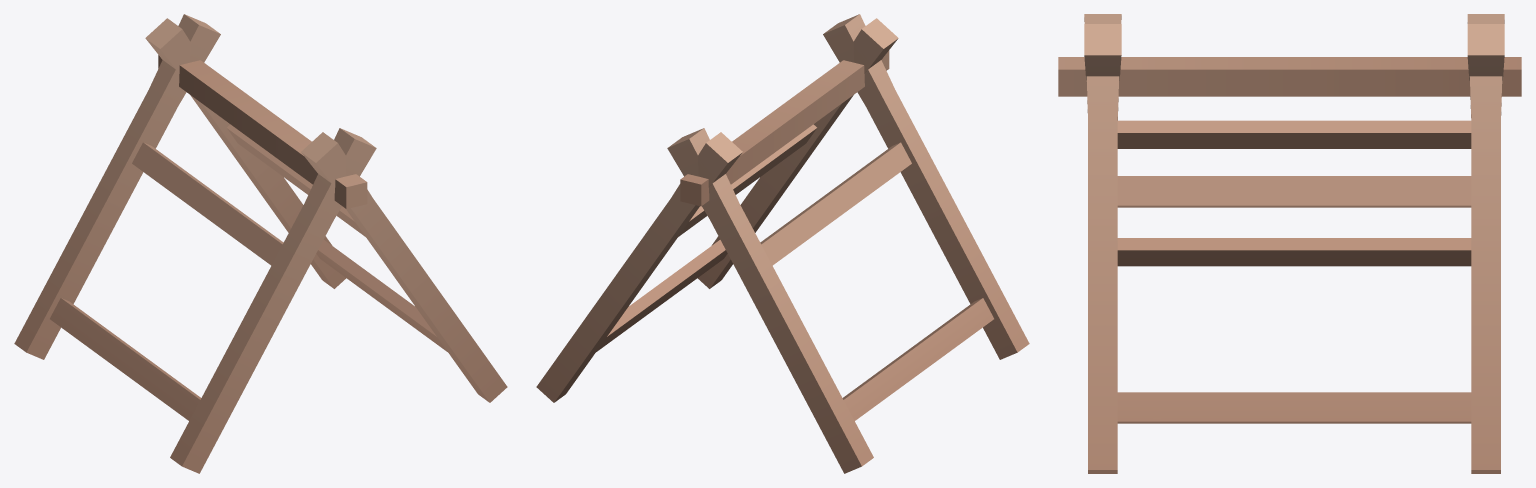
File: tent.glb
The picture shows the model from 3 angles, left to right: view 1: azimuth 30°, elevation 25°; view 2: azimuth 150°, elevation 25°; view 3: azimuth 270°, elevation 25°; orthographic projection. The views are drawn at different scales.
Visible parts, largest first — view 1: tent; view 2: tent; view 3: tent.
Part boxes in pixels (left/top/right/bottom): tent: left=14, top=14, right=507, bottom=473; tent: left=536, top=14, right=1029, bottom=473; tent: left=1058, top=14, right=1521, bottom=473.
Bounding box in the file's own units: 0.5608 × 0.4914 × 0.561.
